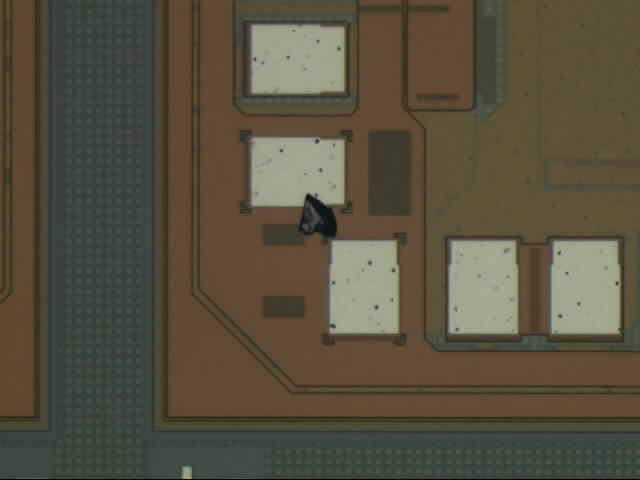PO CONTAMINATION: (292, 189, 343, 245)
